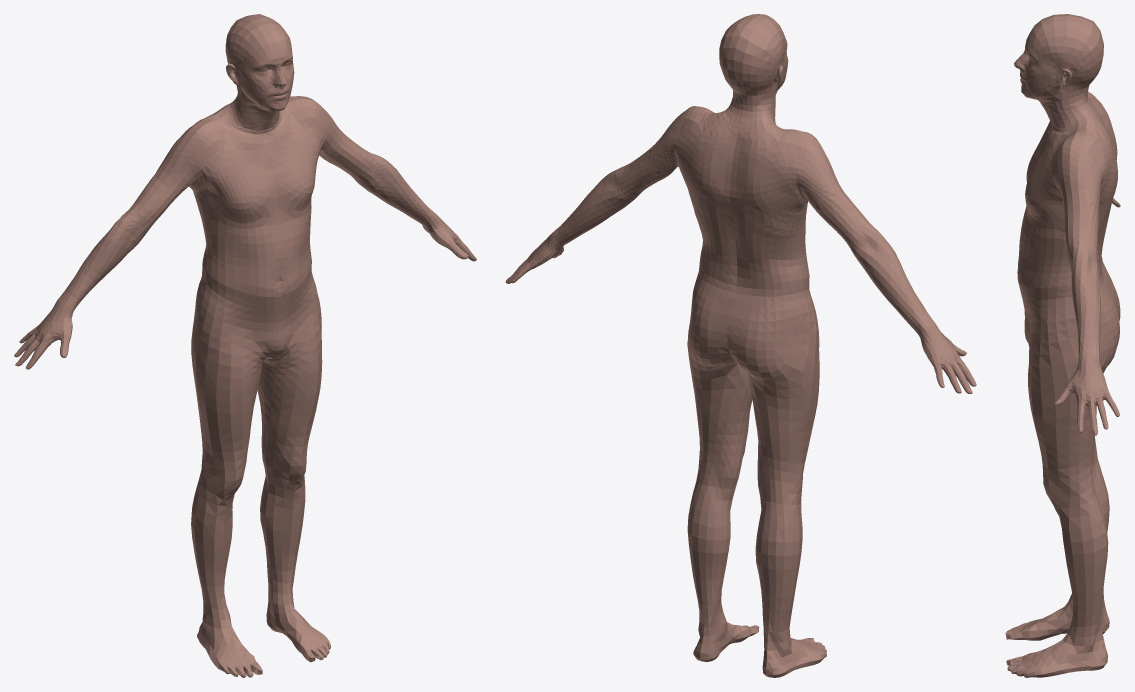
The model's file is avatar_textured.glb.
3 views of the same model, side by side, from view 1: azimuth 30°, elevation 25°; view 2: azimuth 150°, elevation 25°; view 3: azimuth 270°, elevation 25° (orthographic).
Parts seen in each view (by area): view 1: body_apose_clo3d.obj; view 2: body_apose_clo3d.obj; view 3: body_apose_clo3d.obj.
Part boxes in pixels (x1=…): body_apose_clo3d.obj: x1=14, y1=14, x2=476, y2=677; body_apose_clo3d.obj: x1=505, y1=14, x2=976, y2=677; body_apose_clo3d.obj: x1=1005, y1=14, x2=1120, y2=677.
Size of the model in its own units: 1371 by 1800 by 295.
Materials: 1 (1 with a texture image).
